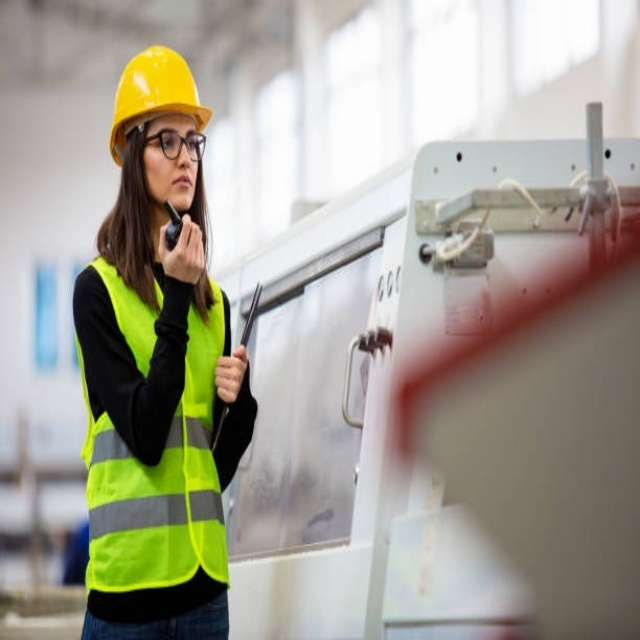Gafas: (140, 129, 206, 161)
Sin_guantes: (157, 209, 208, 287), (214, 343, 250, 404)
Sin_mascara: (167, 166, 192, 201)
